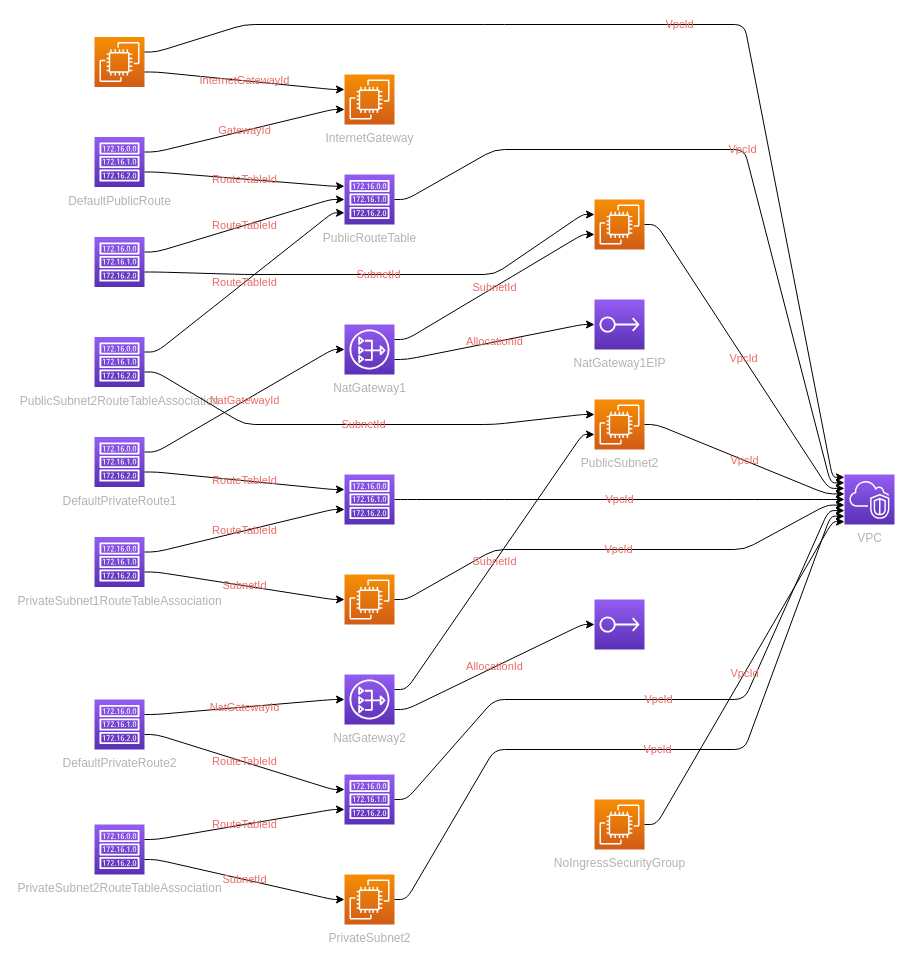
Image size: 912x963. Some labels were removed from this diagram. The shapes that lost their labels are listed below. From the top down, each one's centre as x and y in pixels, then its label:
the point at 119,61: InternetGatewayAttachment
the point at 619,224: PublicSubnet1
the point at 119,261: PublicSubnet1RouteTableAssociation
the point at 369,499: PrivateRouteTable1
the point at 369,599: PrivateSubnet1
the point at 619,624: NatGateway2EIP
the point at 369,799: PrivateRouteTable2
